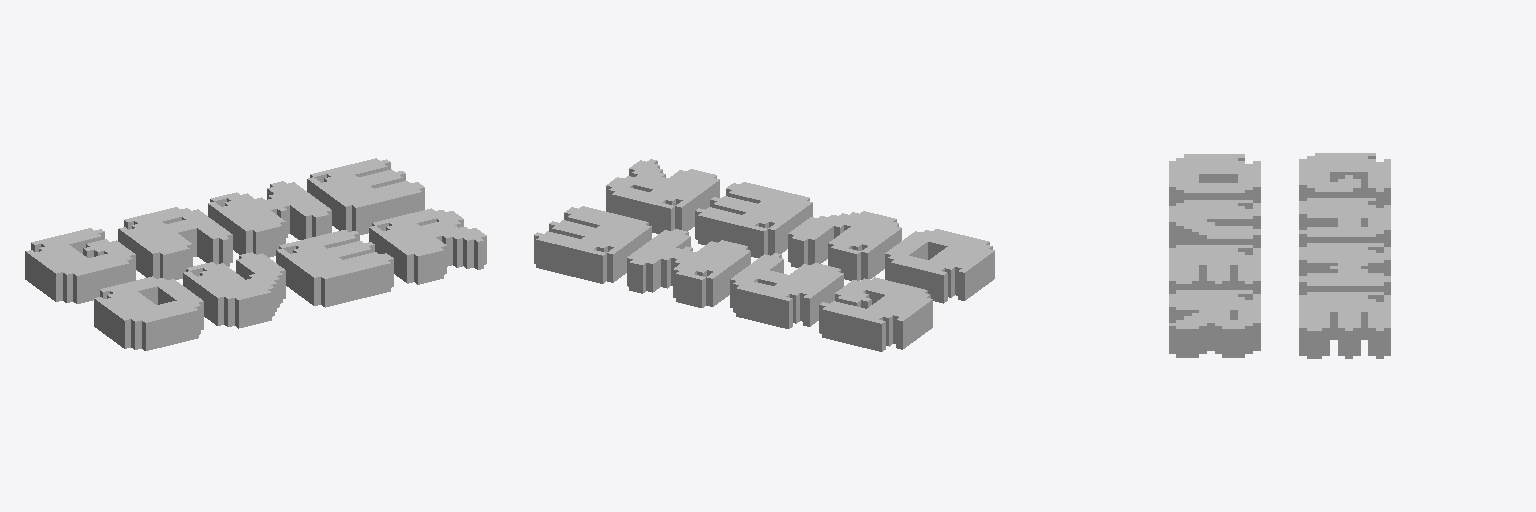
Rendered from gameover.obj.
3 views of the same model, side by side, from view 1: azimuth 30°, elevation 25°; view 2: azimuth 150°, elevation 25°; view 3: azimuth 270°, elevation 25° (orthographic).
Parts seen in each view (by area): view 1: Text; view 2: Text; view 3: Text.
Part boxes in pixels (x1,y1,x2,y2): Text: (25, 158, 486, 350); Text: (534, 159, 994, 351); Text: (1169, 153, 1390, 358).
Size of the model in its own units: 3.24 by 0.24 by 1.71.